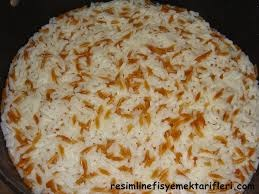pirinc_pilavi: (1, 0, 258, 193)
